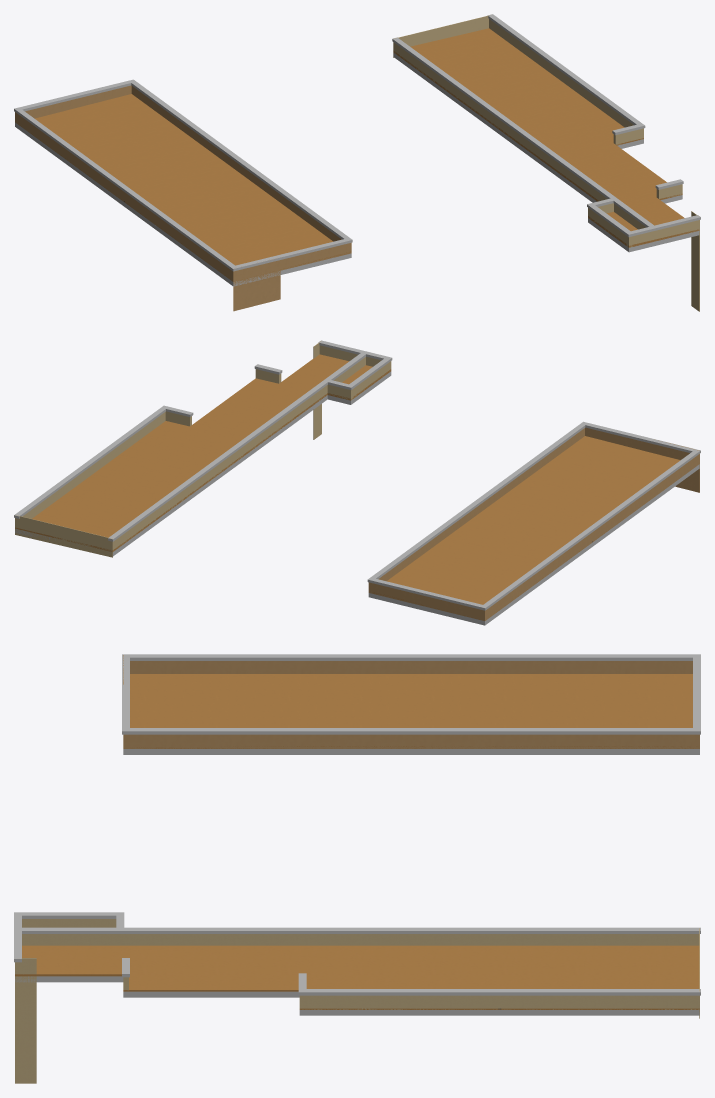
Rendered from roof-bundle-textile-arcade.glb.
The picture shows the model from 3 angles, top to bottom: view 1: azimuth 30°, elevation 25°; view 2: azimuth 150°, elevation 25°; view 3: azimuth 270°, elevation 25°; orthographic projection. The views are drawn at different scales.
Visible parts, largest first — view 1: bz06_faded_ochre-receive, ph_bz04_stone_trim_sandstone-cast, bz06_cream_plaster-cast, bz06_pale_lime-cast; view 2: bz06_faded_ochre-receive, ph_bz04_stone_trim_sandstone-cast, bz06_pale_lime-cast, bz06_cream_plaster-cast; view 3: bz06_faded_ochre-receive, ph_bz04_stone_trim_sandstone-cast, bz06_pale_lime-cast, bz06_cream_plaster-cast.
Part boxes in pixels (<box>): bz06_faded_ochre-receive: <box>20,28,699,279</box>; ph_bz04_stone_trim_sandstone-cast: <box>14,14,700,286</box>; bz06_cream_plaster-cast: <box>15,85,351,311</box>; bz06_pale_lime-cast: <box>393,15,699,311</box>; bz06_faded_ochre-receive: <box>15,354,680,619</box>; ph_bz04_stone_trim_sandstone-cast: <box>14,340,700,625</box>; bz06_pale_lime-cast: <box>15,341,391,557</box>; bz06_cream_plaster-cast: <box>368,427,699,620</box>; bz06_faded_ochre-receive: <box>15,674,699,1009</box>; ph_bz04_stone_trim_sandstone-cast: <box>14,654,700,1015</box>; bz06_pale_lime-cast: <box>15,919,699,1083</box>; bz06_cream_plaster-cast: <box>123,655,699,748</box>.
Size of the model in its own units: 20.26 by 4.73 by 19.06.
5 materials, 4 textured.
